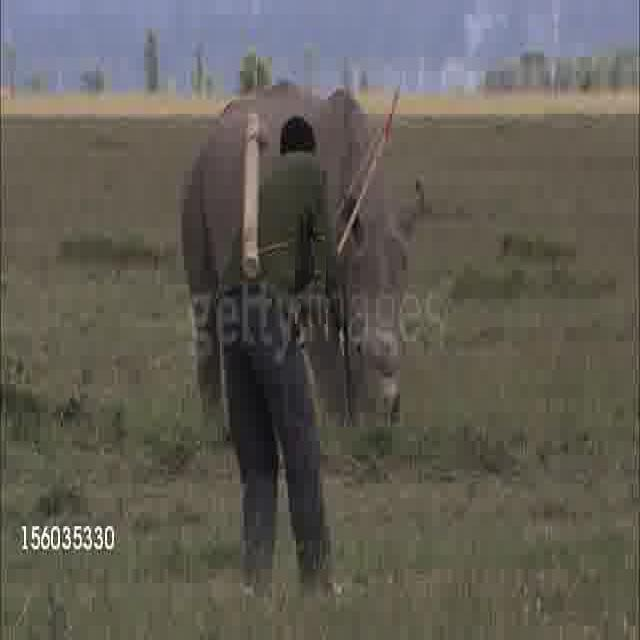poacher: (232, 210, 392, 585)
weapon: (295, 214, 326, 324)
